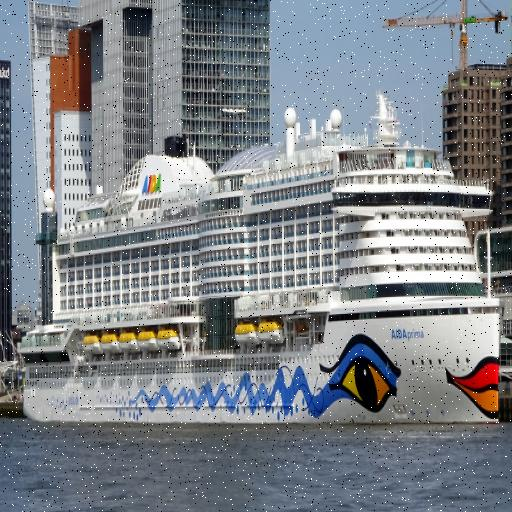cruises: (17, 110, 512, 443)
